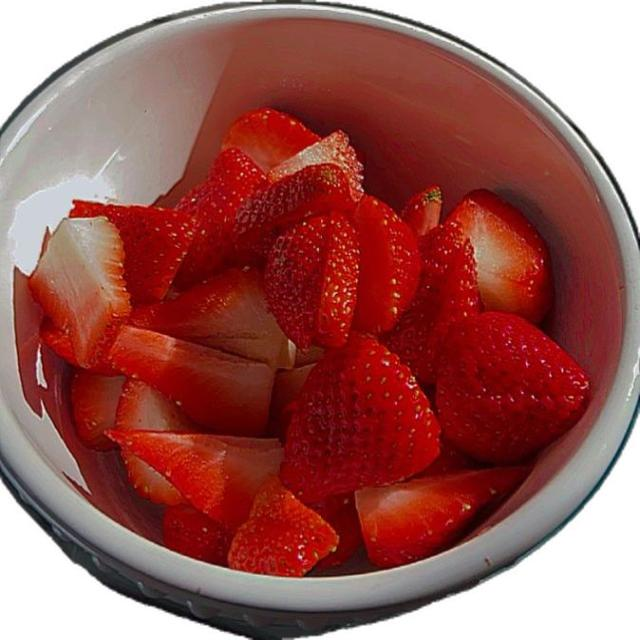strawberry sliced: (282, 335, 439, 502), (437, 312, 589, 464), (110, 327, 274, 435), (355, 467, 529, 568), (109, 432, 282, 529), (130, 269, 293, 368), (29, 217, 131, 367), (385, 222, 479, 384), (449, 190, 553, 324), (176, 149, 267, 288), (70, 201, 194, 303), (265, 214, 358, 349), (233, 164, 354, 261), (228, 478, 338, 576), (354, 196, 420, 334), (268, 131, 363, 200), (223, 108, 319, 171), (115, 380, 198, 432), (71, 370, 124, 450), (163, 505, 232, 565), (311, 494, 363, 569), (267, 364, 314, 442), (415, 435, 479, 477), (271, 364, 315, 417), (401, 185, 442, 236), (40, 317, 79, 367), (295, 346, 324, 367)
